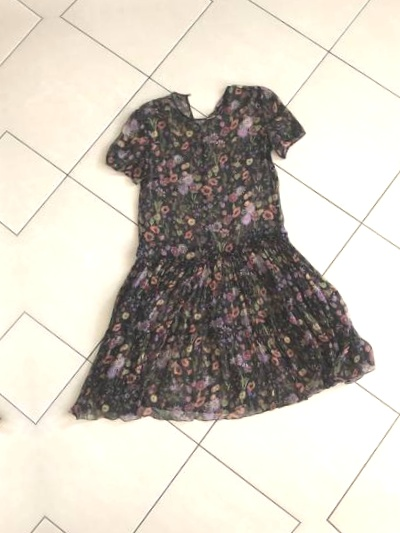Dress: (36, 44, 387, 446), (0, 82, 3, 484)
